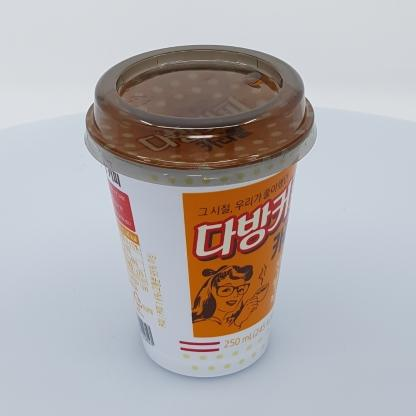---------: (84, 44, 318, 377)
